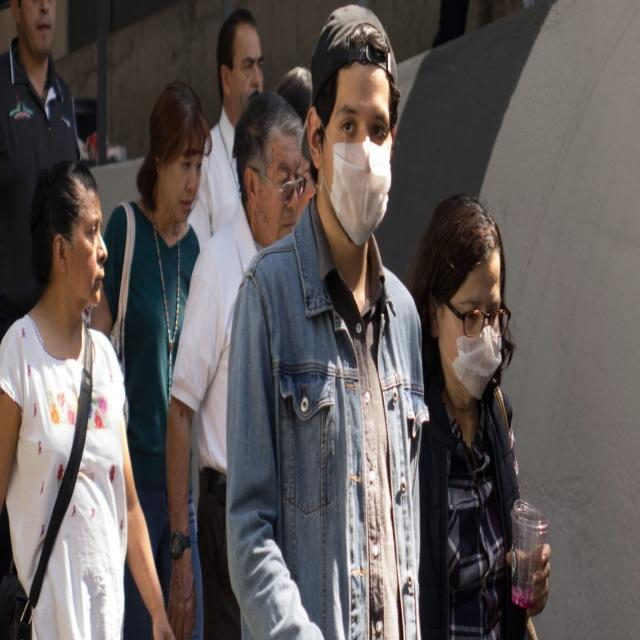adult: (225, 3, 428, 640), (0, 161, 171, 640), (164, 93, 305, 640), (91, 90, 210, 640), (417, 188, 551, 640)
